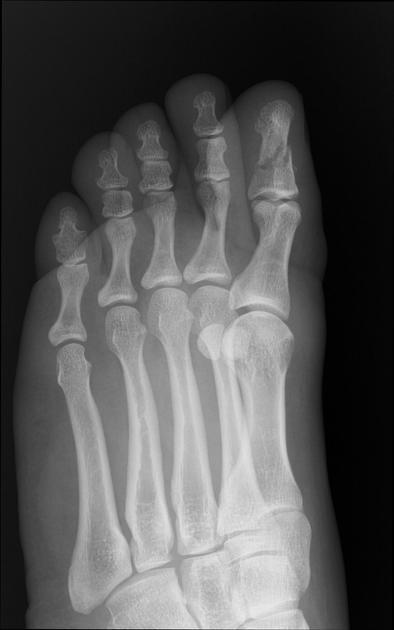fractured: (254, 144, 298, 172)
